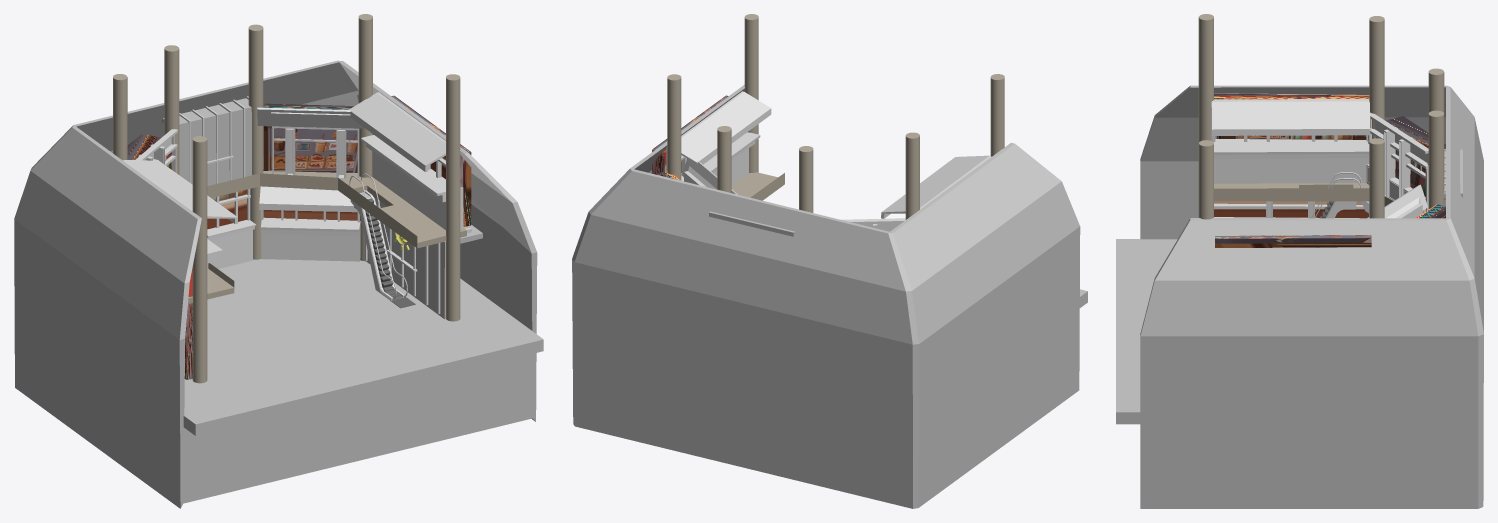
Rendered from Mall_V0.2.fbx.
3 renders of one model, left to right at view 1: azimuth 30°, elevation 25°; view 2: azimuth 150°, elevation 25°; view 3: azimuth 270°, elevation 25°, orthographic. The views are drawn at different scales.
Visible parts, largest first — view 1: Cube.002; view 2: Cube.002; view 3: Cube.002.
Part boxes in pixels (x1,y1,x2,y2): Cube.002: [14, 14, 543, 508]; Cube.002: [572, 14, 1087, 508]; Cube.002: [1116, 14, 1483, 508].
Bounding box in the file's own units: 45691 × 40735 × 39889.
